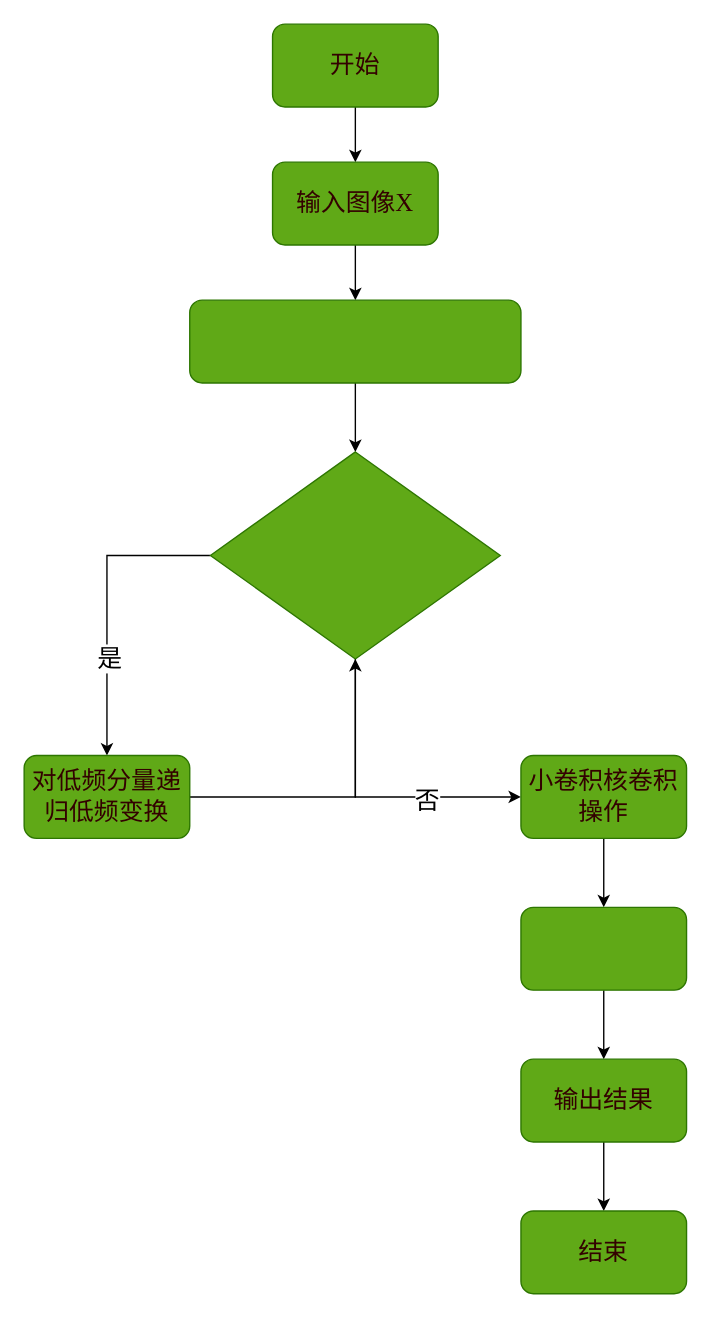
The diagram is 711 pixels wide and 1318 high, and some of its shapes have lost their labels. The shapes that lost their labels are listed below. From the top down, each one's centre as x and y in pixels, then its label:
At [354,341]: "低频变换（分解出低频分量）".
At [354,555]: "是否继续分解低频分量".
At [603,948]: "你低频变换（合成）".
